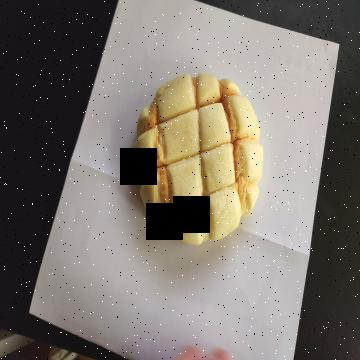melon_bread: (132, 72, 264, 245)
